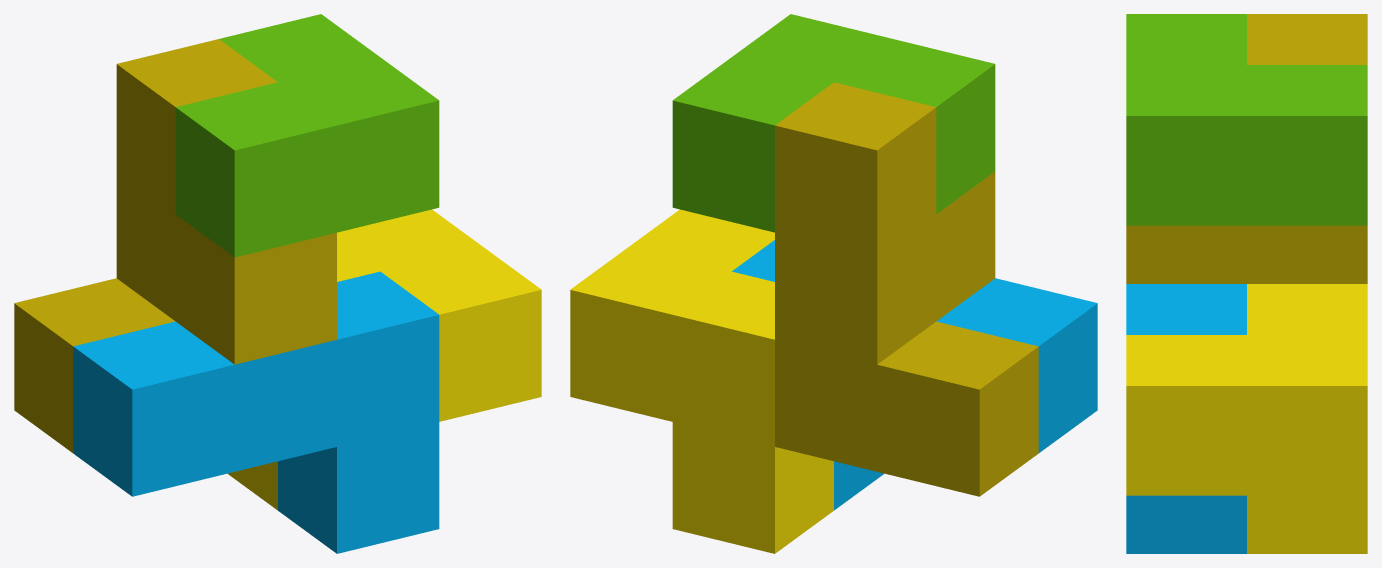
The picture shows the model from 3 angles, left to right: view 1: azimuth 30°, elevation 25°; view 2: azimuth 150°, elevation 25°; view 3: azimuth 270°, elevation 25°; orthographic projection. The views are drawn at different scales.
Visible parts, largest first — view 1: mergedBlocks(Clone); view 2: mergedBlocks(Clone); view 3: mergedBlocks(Clone).
Part boxes in pixels (<box>): mergedBlocks(Clone): <box>14,14,541,553</box>; mergedBlocks(Clone): <box>570,14,1097,553</box>; mergedBlocks(Clone): <box>1126,14,1367,553</box>.
Size of the model in its own units: 4 by 4 by 2.
Materials: 4 (4 with a texture image).
